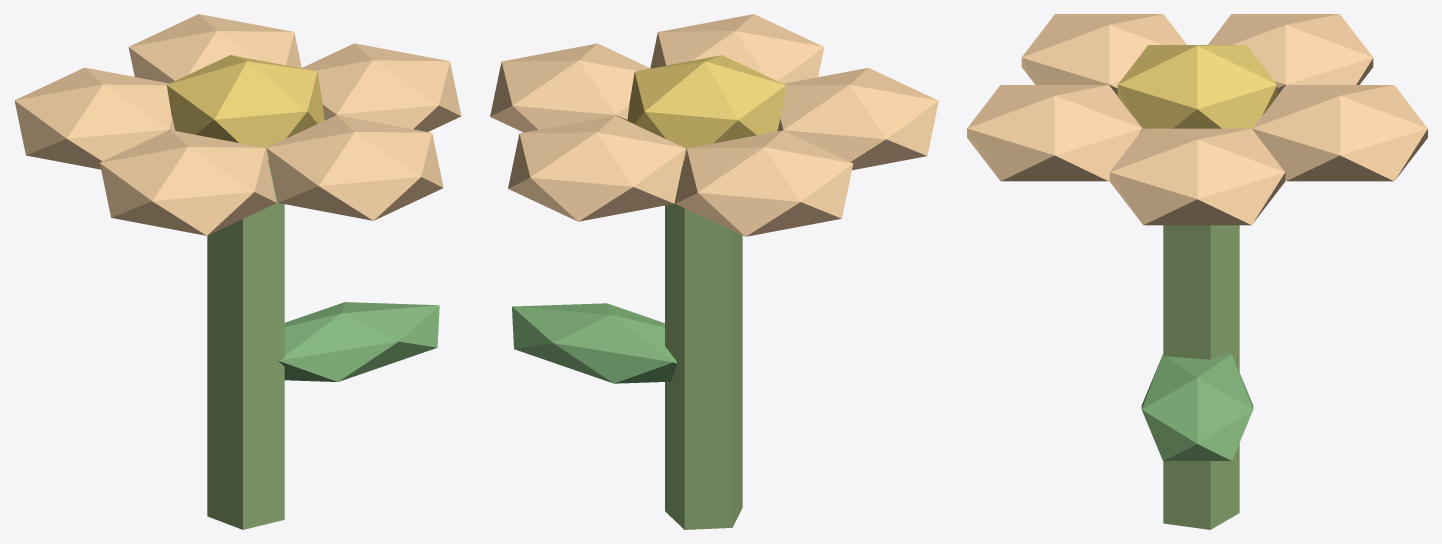
File: flower.glb
3 renders of one model, left to right at view 1: azimuth 30°, elevation 25°; view 2: azimuth 150°, elevation 25°; view 3: azimuth 270°, elevation 25°, orthographic. The views are drawn at different scales.
Visible parts, largest first — view 1: stem.001, petal_3, petal_4, petal_2, centre, leaf, petal_0, petal_1; view 2: stem.001, petal_2, petal_1, petal_3, centre, leaf, petal_0, petal_4; view 3: stem.001, petal_0, petal_1, petal_4, centre, leaf, petal_2, petal_3.
Boxes of the visible parts, <box> form: stem.001: <box>207,163,284,529</box>; petal_3: <box>100,130,276,235</box>; petal_4: <box>266,115,443,220</box>; petal_2: <box>14,67,175,169</box>; centre: <box>166,55,324,163</box>; leaf: <box>278,302,439,381</box>; petal_0: <box>301,43,461,131</box>; petal_1: <box>128,14,301,83</box>; stem.001: <box>665,164,742,529</box>; petal_2: <box>675,130,853,236</box>; petal_1: <box>508,115,685,221</box>; petal_3: <box>777,67,938,170</box>; centre: <box>627,55,785,164</box>; leaf: <box>512,303,676,383</box>; petal_0: <box>490,43,650,132</box>; petal_4: <box>650,14,824,83</box>; stem.001: <box>1163,225,1239,529</box>; petal_0: <box>1109,128,1285,225</box>; petal_1: <box>1252,85,1427,181</box>; petal_4: <box>967,85,1142,181</box>; centre: <box>1117,45,1277,128</box>; leaf: <box>1141,354,1253,460</box>; petal_2: <box>1208,14,1373,95</box>; petal_3: <box>1021,14,1186,95</box>.
Size of the model in its own units: 0.4862 by 0.55 by 0.4915.
